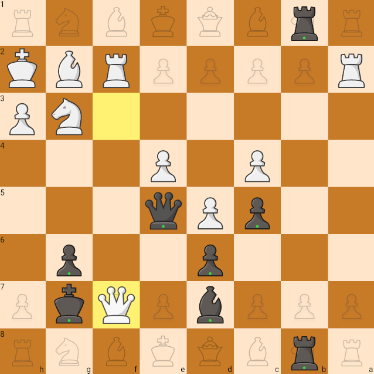bb: (192, 284, 228, 326)
bk: (49, 282, 90, 326)
bp: (192, 239, 229, 278), (53, 242, 88, 280), (241, 194, 275, 230)
bq: (141, 190, 184, 230)
br: (285, 3, 324, 45), (286, 333, 325, 373)
wb: (52, 49, 88, 91)
wk: (1, 49, 42, 89)
wn: (49, 95, 88, 136)
wp: (239, 142, 278, 184), (4, 101, 41, 139), (146, 147, 181, 186), (198, 194, 223, 231)
wq: (94, 284, 137, 325)
wr: (97, 52, 136, 89), (336, 52, 369, 90)
